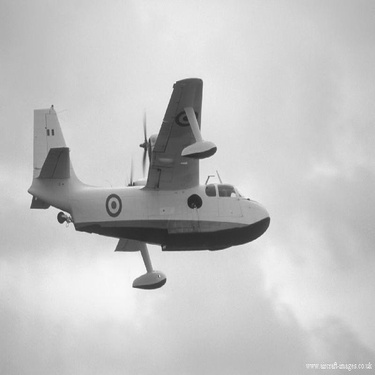airplane: (14, 70, 274, 301)
